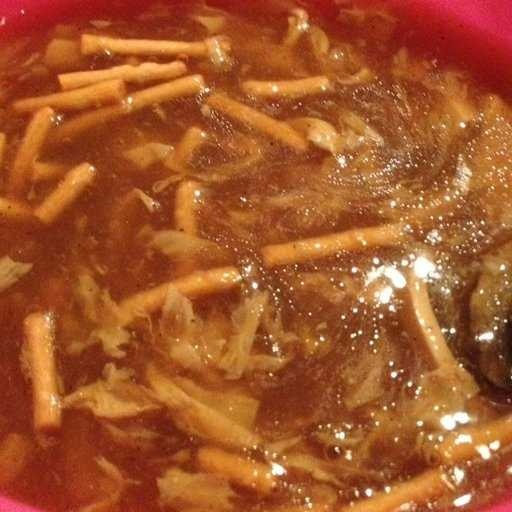soup: (2, 5, 510, 505)
